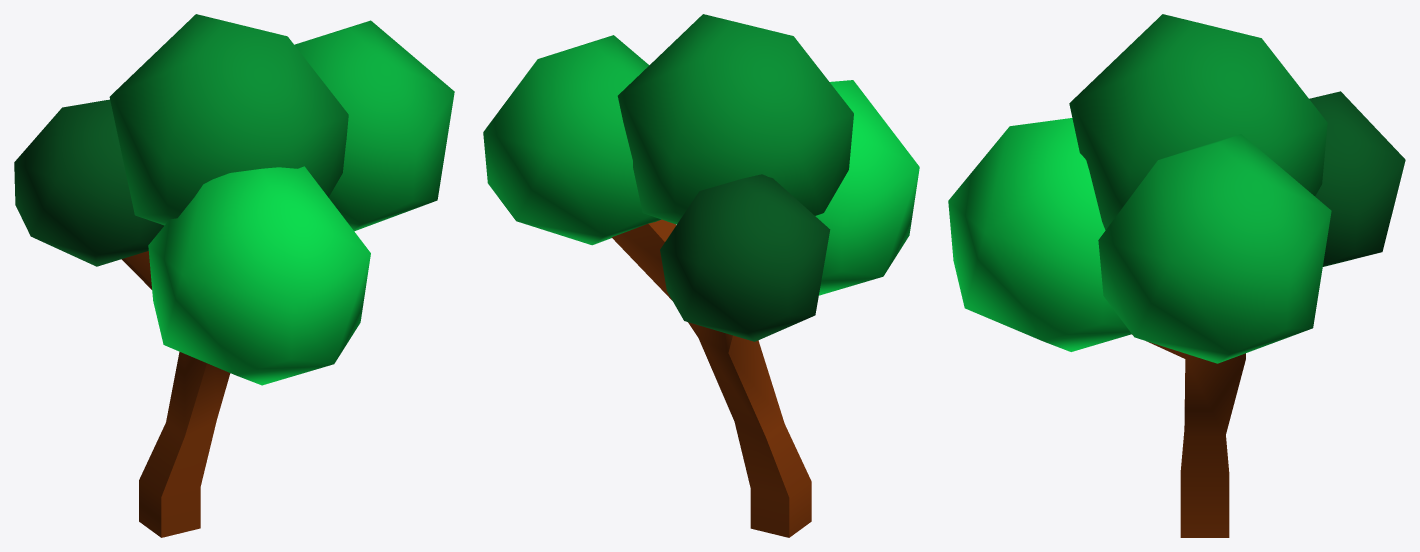
Rendered from Tree 4.fbx.
3 views of the same model, side by side, from view 1: azimuth 30°, elevation 25°; view 2: azimuth 150°, elevation 25°; view 3: azimuth 270°, elevation 25° (orthographic). The views are drawn at different scales.
Parts seen in each view (by area): view 1: Kugel_1, Kugel_2, Kugel, Kugel_3, Würfel; view 2: Kugel_2, Kugel, Kugel_3, Würfel, Kugel_1; view 3: Kugel, Kugel_2, Kugel_1, Kugel_3, Würfel.
Part boxes in pixels (left/top/right/bottom): Kugel_1: left=148, top=166, right=370, bottom=385; Kugel_2: left=109, top=14, right=348, bottom=225; Kugel: left=294, top=20, right=454, bottom=231; Kugel_3: left=14, top=99, right=164, bottom=266; Würfel: left=121, top=251, right=230, bottom=537; Kugel_2: left=617, top=14, right=853, bottom=224; Kugel: left=483, top=35, right=661, bottom=245; Kugel_3: left=660, top=174, right=830, bottom=341; Würfel: left=612, top=219, right=811, bottom=537; Kugel_1: left=815, top=80, right=919, bottom=295; Kugel: left=1098, top=134, right=1331, bottom=363; Kugel_2: left=1069, top=14, right=1327, bottom=230; Kugel_1: left=948, top=118, right=1131, bottom=351; Kugel_3: left=1309, top=91, right=1405, bottom=266; Würfel: left=1132, top=334, right=1245, bottom=537.
Bounding box in the file's own units: 183 × 241 × 188.
